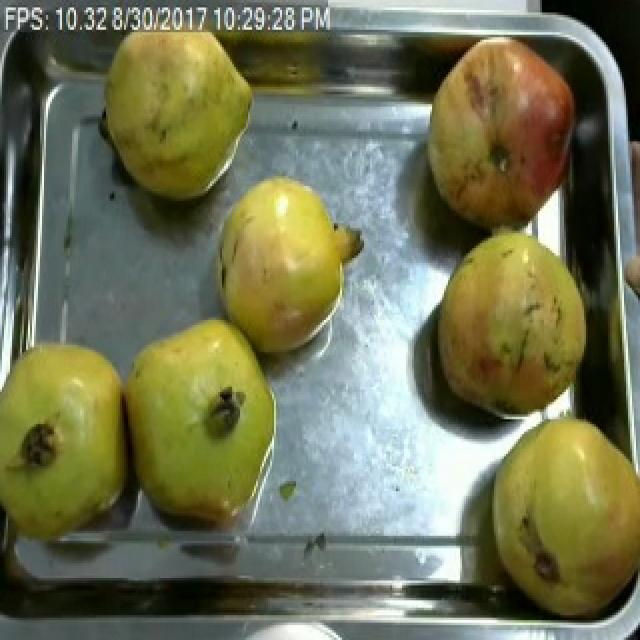fruit: (116, 302, 288, 536), (414, 27, 588, 241), (474, 407, 640, 625), (206, 161, 378, 370), (428, 220, 594, 432), (0, 323, 146, 558), (92, 7, 260, 211)
